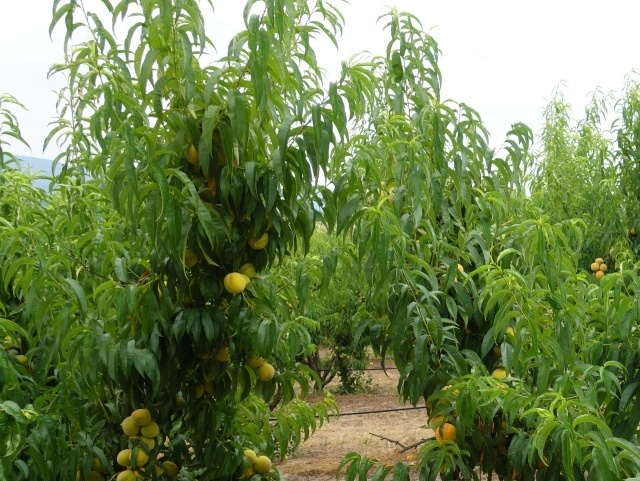peach: (219, 269, 249, 297), (113, 411, 139, 439), (433, 420, 459, 448), (129, 403, 154, 429), (244, 229, 272, 252), (255, 361, 277, 385), (111, 447, 135, 469), (127, 444, 151, 466), (236, 446, 258, 468), (251, 455, 274, 476), (139, 419, 163, 438)
